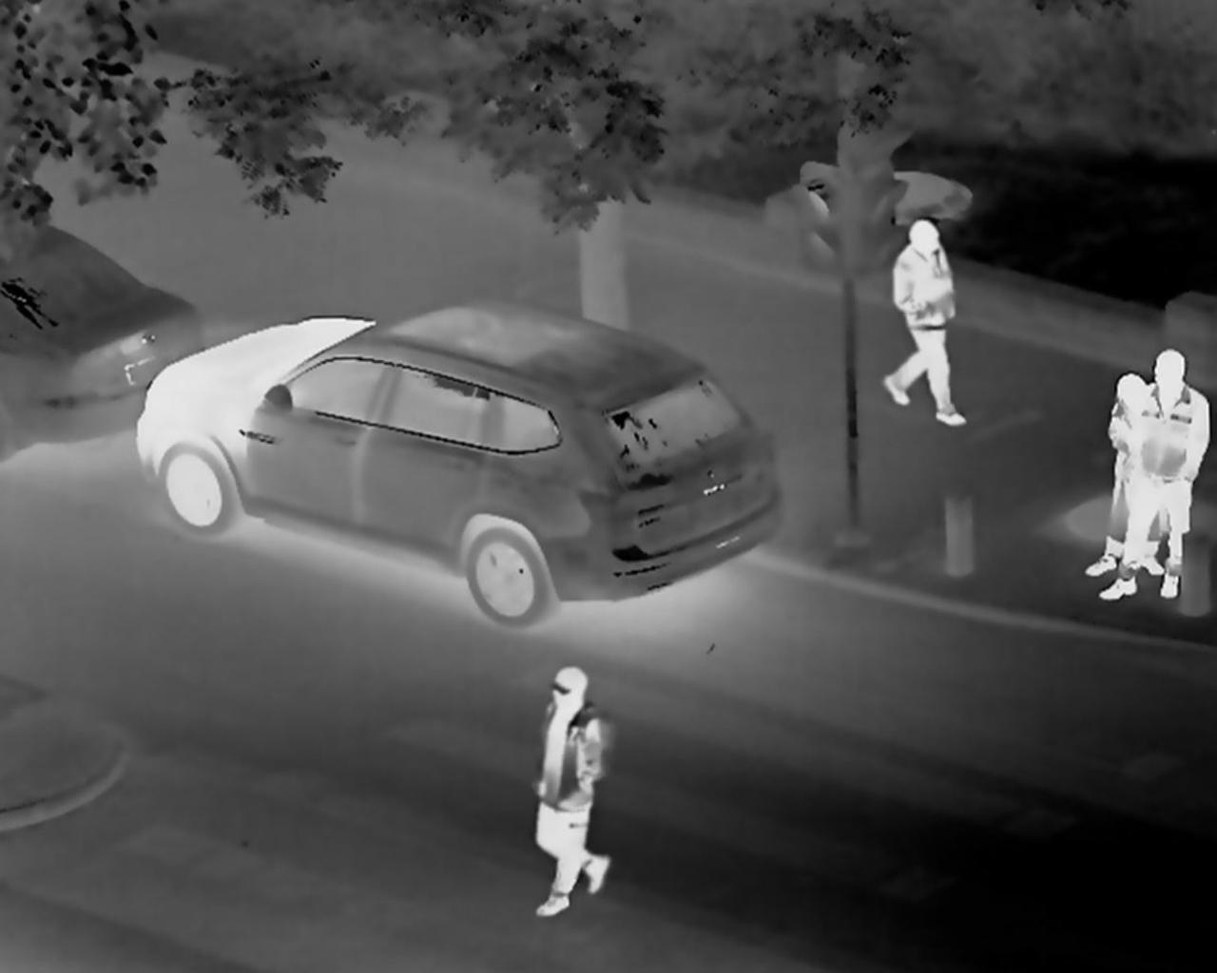person: (1087, 339, 1217, 620), (516, 652, 637, 925), (874, 214, 973, 443)
